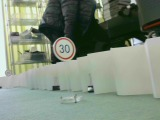speed_30: (52, 37, 76, 61)
